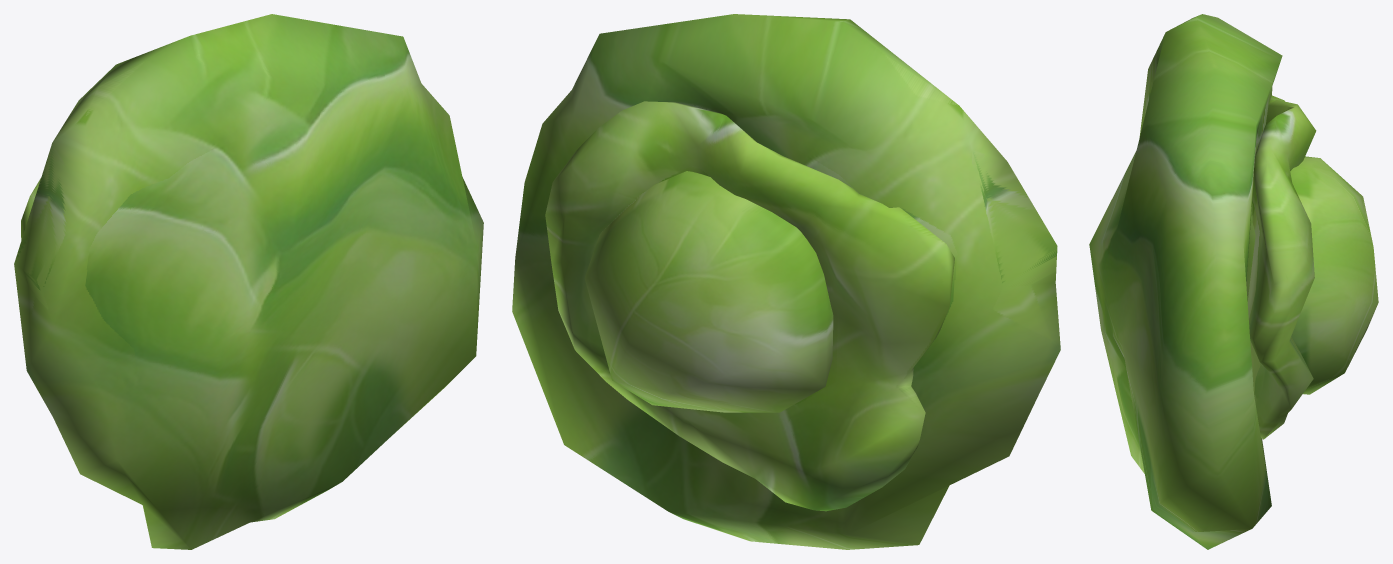
Rendered from Cabbage.fbx.
3 views of the same model, side by side, from view 1: azimuth 30°, elevation 25°; view 2: azimuth 150°, elevation 25°; view 3: azimuth 270°, elevation 25° (orthographic). The views are drawn at different scales.
Parts seen in each view (by area): view 1: mm_frame; view 2: mm_frame; view 3: mm_frame.
Boxes of the visible parts, x1,y1,x2,y2 form: mm_frame: (14, 14, 483, 549); mm_frame: (512, 14, 1060, 549); mm_frame: (1089, 14, 1378, 549).
Bounding box in the file's own units: 675 × 678 × 372.
1 material, 1 textured.
